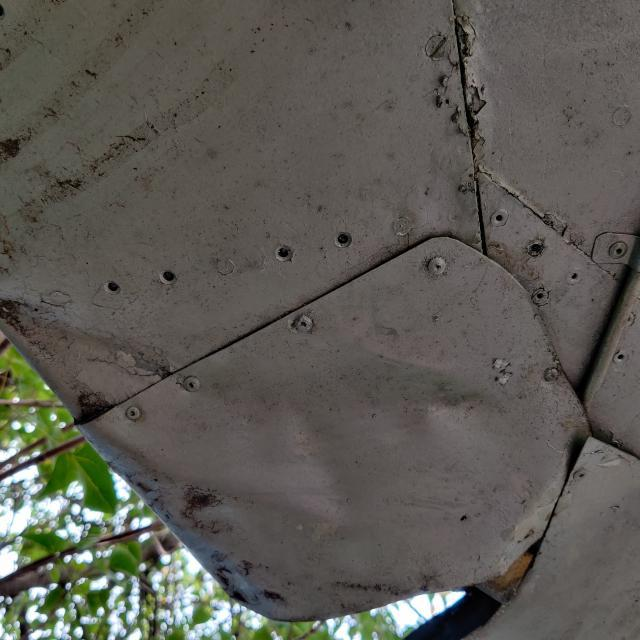dent: (0, 279, 520, 556)
